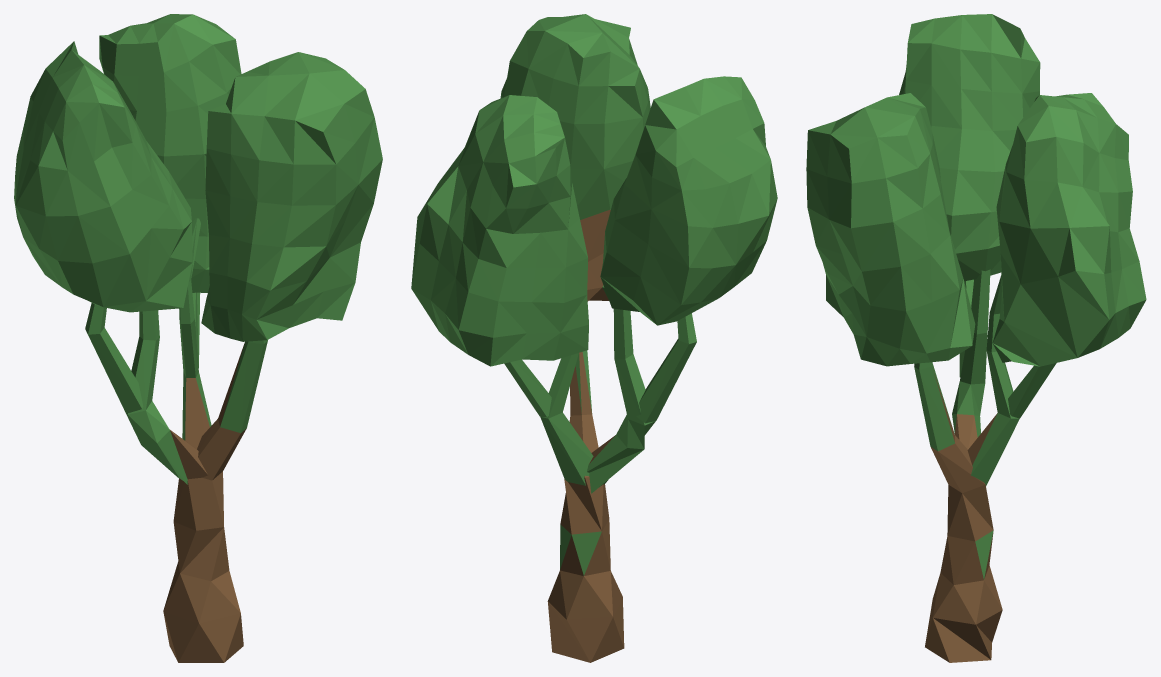
File: tree3d-130.glb
3 views of the same model, side by side, from view 1: azimuth 30°, elevation 25°; view 2: azimuth 150°, elevation 25°; view 3: azimuth 270°, elevation 25° (orthographic). The views are drawn at different scales.
Visible parts, largest first — view 1: tree3d-130; view 2: tree3d-130; view 3: tree3d-130.
Part boxes in pixels (x1,y1,x2,y2): tree3d-130: (14,14,382,662); tree3d-130: (411,14,777,662); tree3d-130: (806,14,1146,662).
Size of the model in its own units: 0.5304 by 1 by 0.528.
